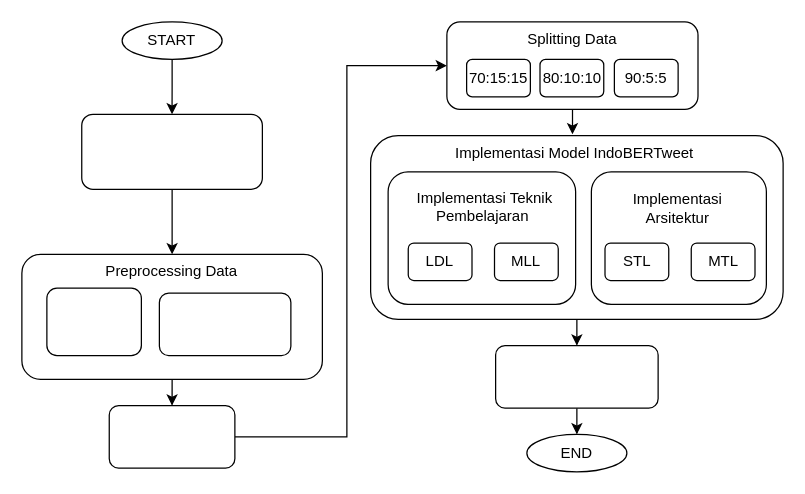
The diagram is 805 pixels wide and 494 high, and some of its shapes have lost their labels. The shapes that lost their labels are listed below. From the top down, each one's centre as x and y in pixels, then its label:
At (x=171, y=151): "Pengumpulan Data".
At (x=93, y=321): "Normalisasi Data".
At (x=224, y=324): "Label Transformation".
At (x=576, y=376): "Evaluasi Kinerja Model".
At (x=171, y=436): "Balancing Data".
